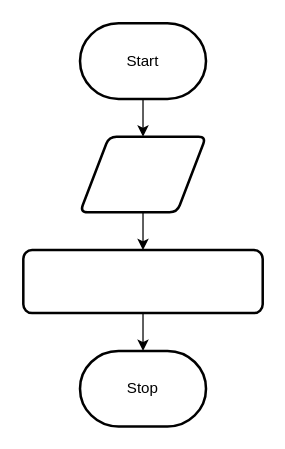
This 285x449 diagram has some shape labels left out. The shapes that lost their labels are listed below. From the top down, each one's centre as x and y in pixels, then its label:
point 142,174: param pushedStr
point 142,281: this.stackList.push(pushedStr)
